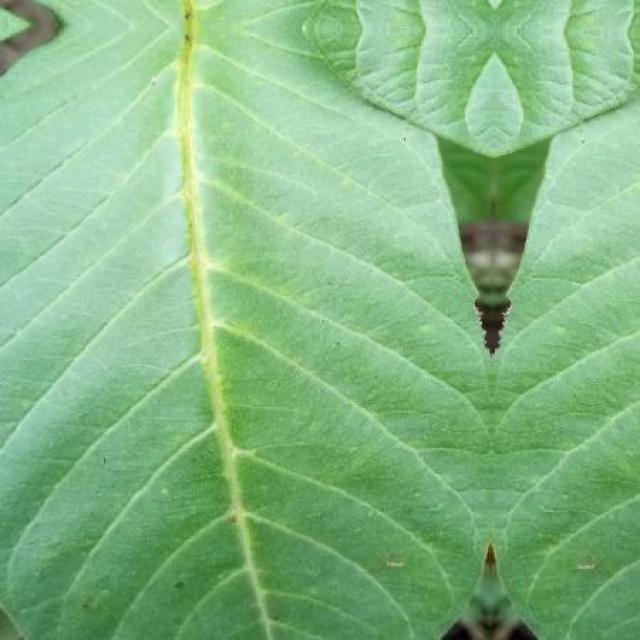Disease Free: (0, 0, 489, 640), (496, 96, 640, 640)
